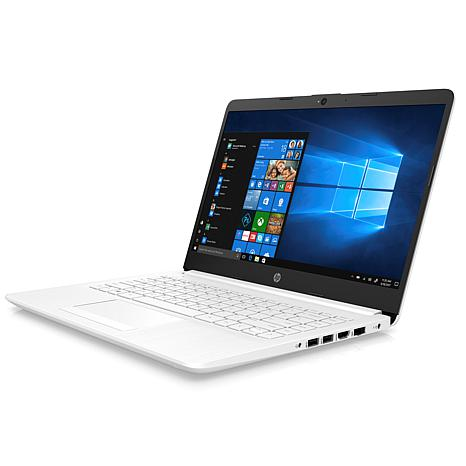Laptop: (6, 86, 460, 378)
